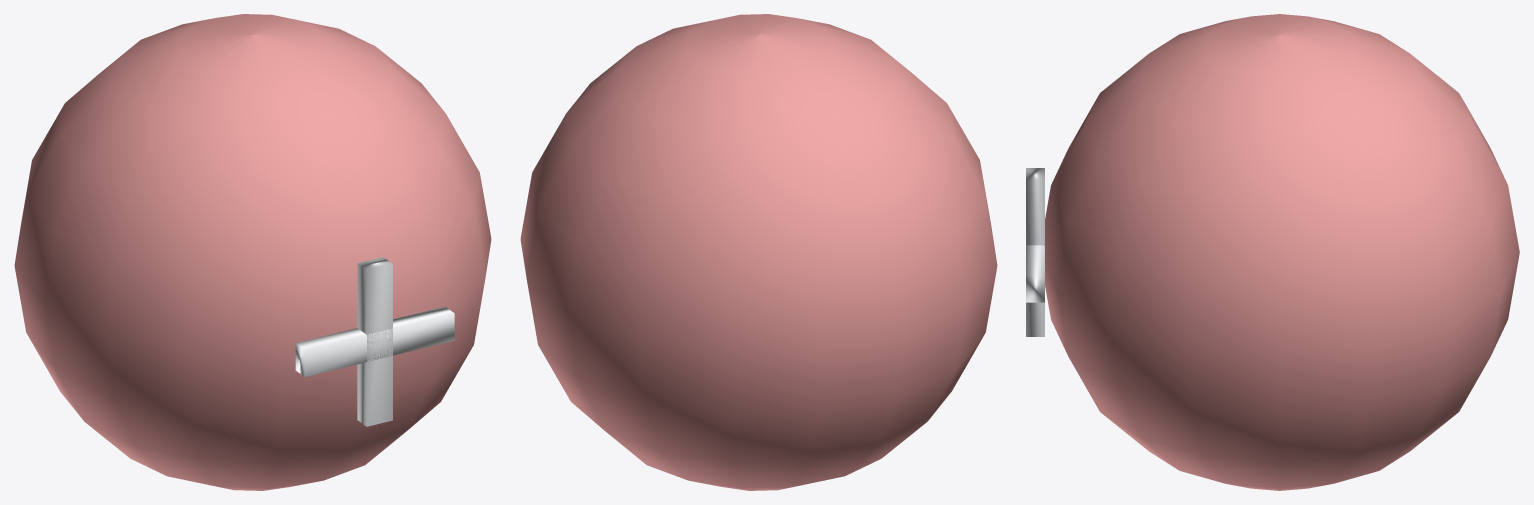
File: charge-sphere-positive.glb
The picture shows the model from 3 angles, left to right: view 1: azimuth 30°, elevation 25°; view 2: azimuth 150°, elevation 25°; view 3: azimuth 270°, elevation 25°; orthographic projection.
Visible parts, largest first — view 1: charge, plus, minus; view 2: charge; view 3: charge, plus, minus.
Part boxes in pixels (left/top/right/bottom): charge: left=14, top=14, right=491, bottom=490; plus: left=357, top=257, right=392, bottom=426; minus: left=295, top=306, right=454, bottom=376; charge: left=520, top=14, right=997, bottom=490; charge: left=1044, top=14, right=1519, bottom=490; plus: left=1026, top=168, right=1044, bottom=336; minus: left=1026, top=245, right=1044, bottom=302.
Bounding box in the file's own units: 0.64 × 0.64 × 0.6575.
